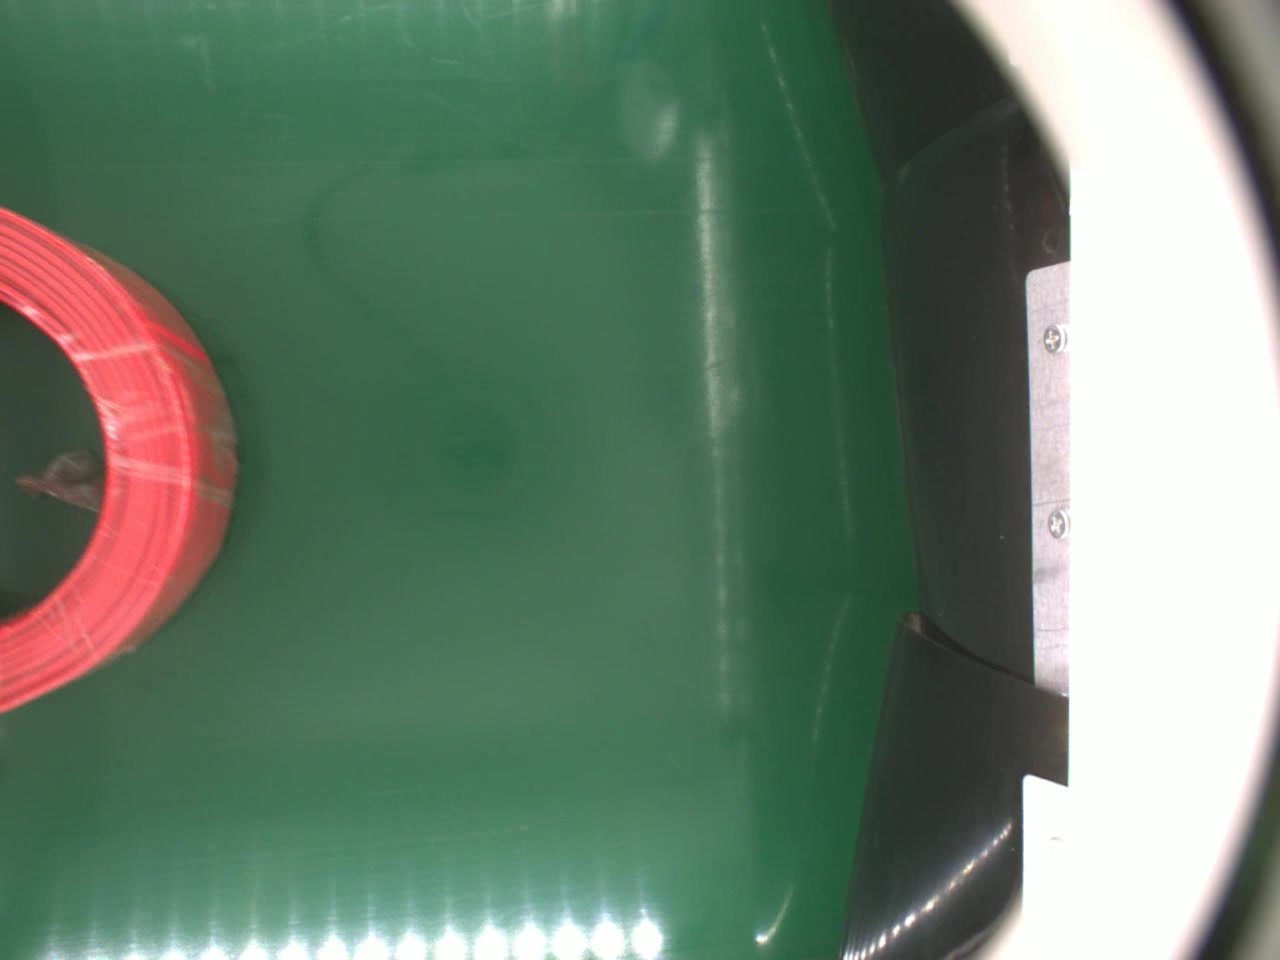red: (0, 204, 238, 716)
